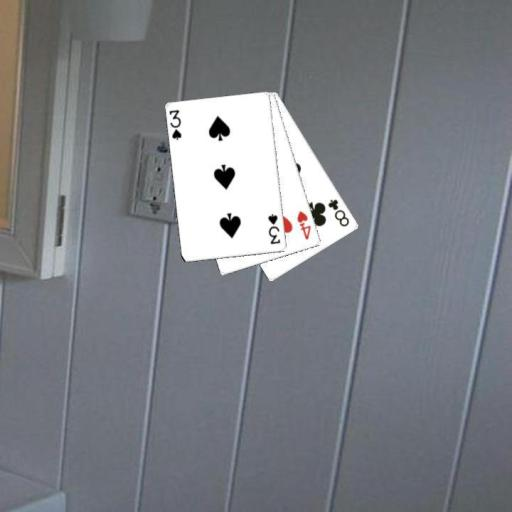3S: (266, 211, 283, 246), (167, 107, 184, 142)
4H: (294, 208, 313, 241)
8C: (325, 197, 351, 229)
